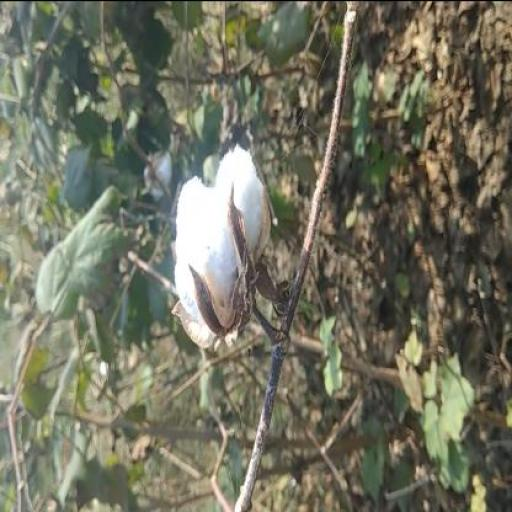cotton_ready: (169, 130, 304, 380)
